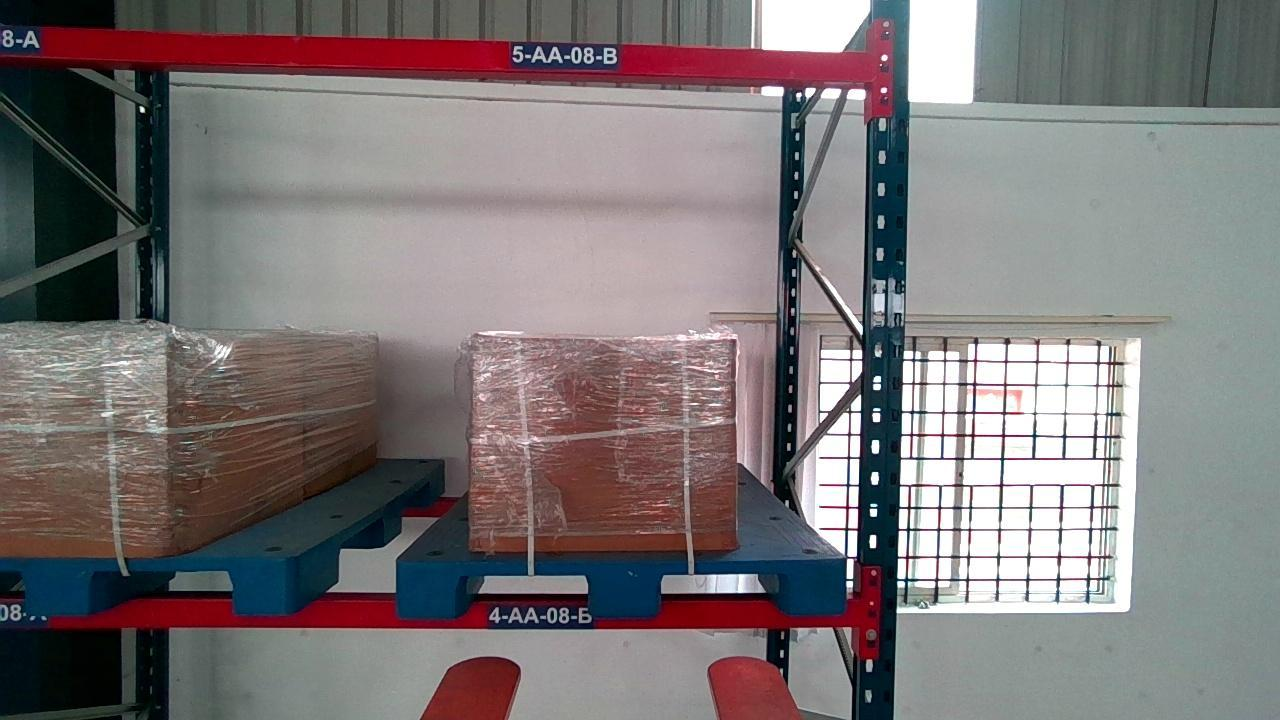h_rack: (1, 26, 875, 81), (11, 594, 857, 629)
small_pallet: (397, 560, 845, 616), (0, 555, 289, 616)
